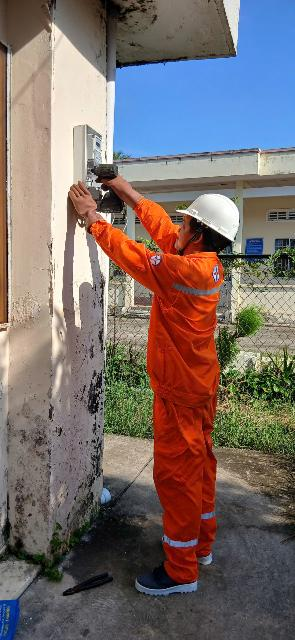gloves: (97, 161, 149, 212), (65, 184, 110, 231)
helmet: (176, 182, 246, 252)
shoes: (124, 564, 207, 604), (187, 536, 218, 570)
